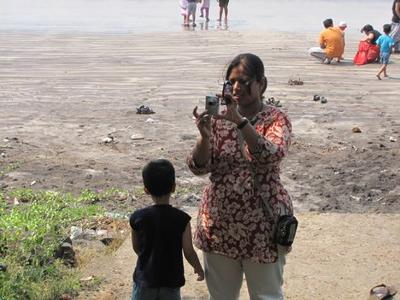person: (186, 54, 296, 299)
